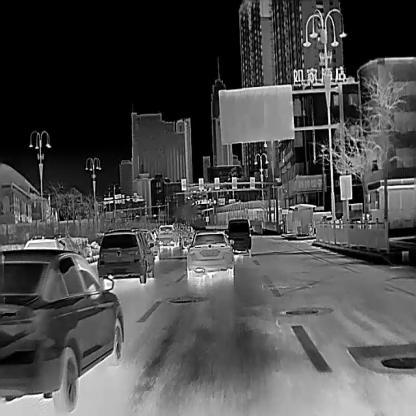car: (0, 250, 124, 411), (96, 227, 155, 283), (185, 230, 234, 277), (224, 217, 252, 254), (22, 235, 77, 253), (140, 228, 160, 257), (159, 225, 178, 246)
